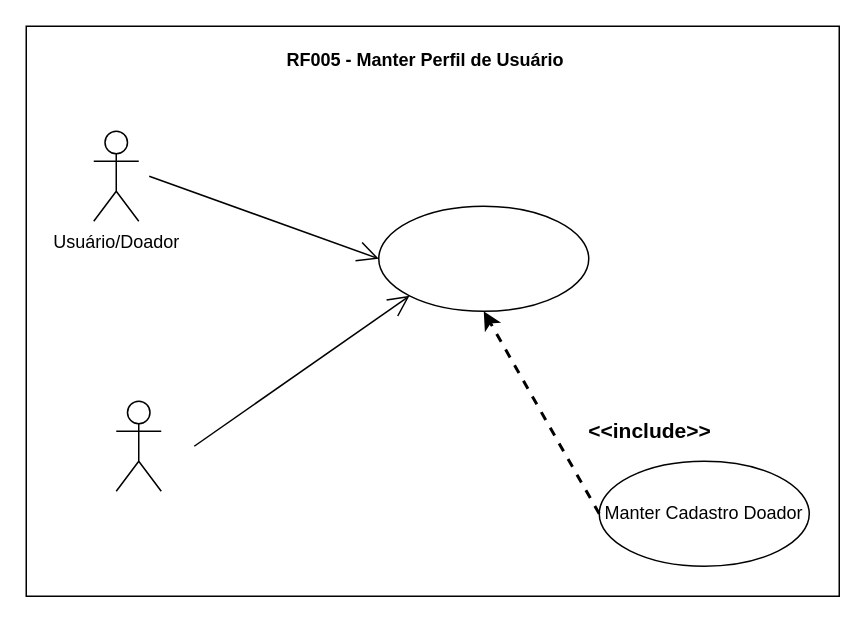
This 866x623 diagram has some shape labels left out. The shapes that lost their labels are listed below. From the top down, each one's box as (x1, y1, x2, y2) in pixels, then its label:
(377, 205, 589, 311): Manter Perfil de Usuário
(115, 400, 161, 491): Funcionário App 450ml
